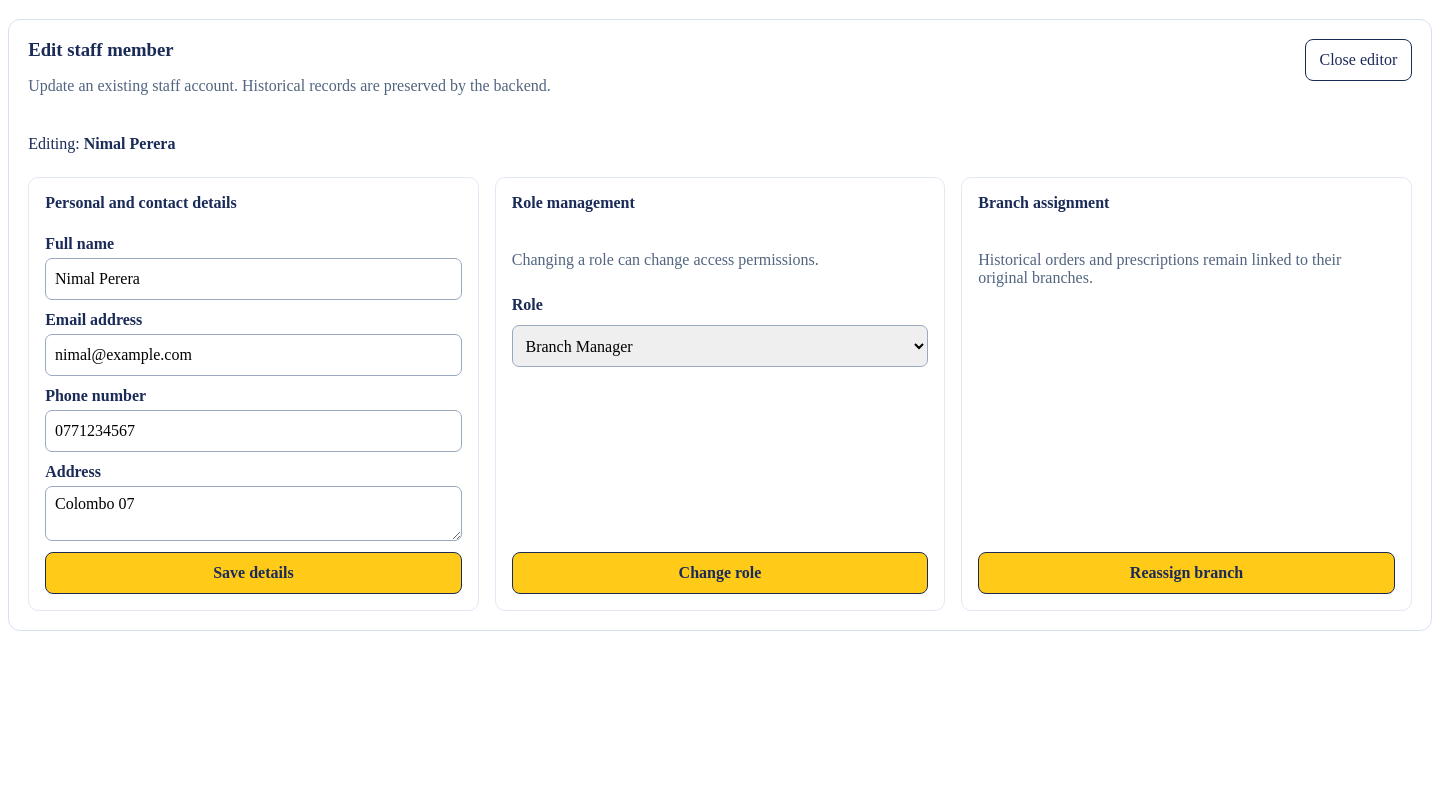
it: DDP-094 staff editing › does not submit unauthorized errors and does not show raw server messages
Expected: the field showing "Nimal Perera" is shown, [45,258,462,300]
Select "Optometrist" in the dropdown labelled "Role" at [720, 346], box [512,325,928,367]
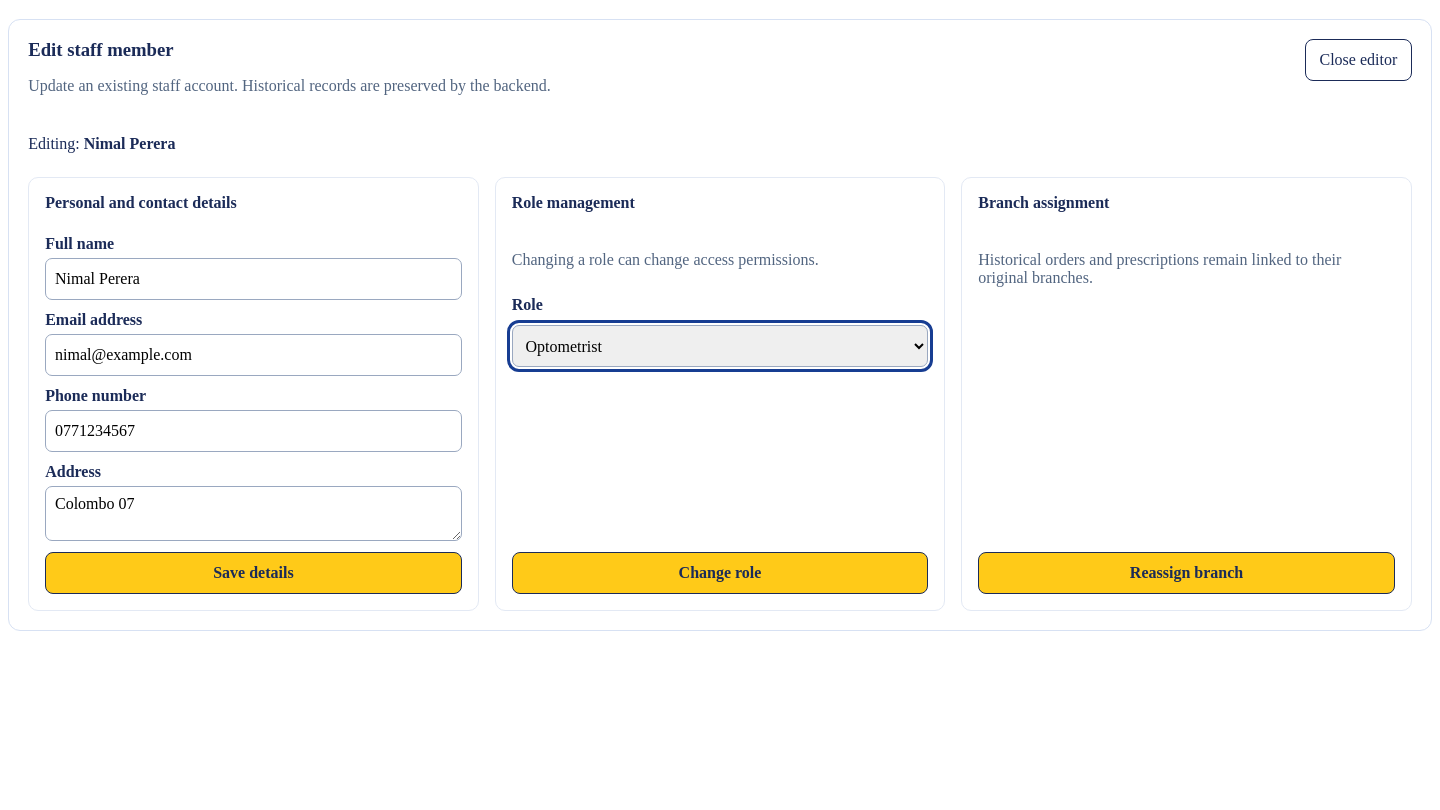
Click the button "Change role" at [720, 573], box [512,552,928,594]
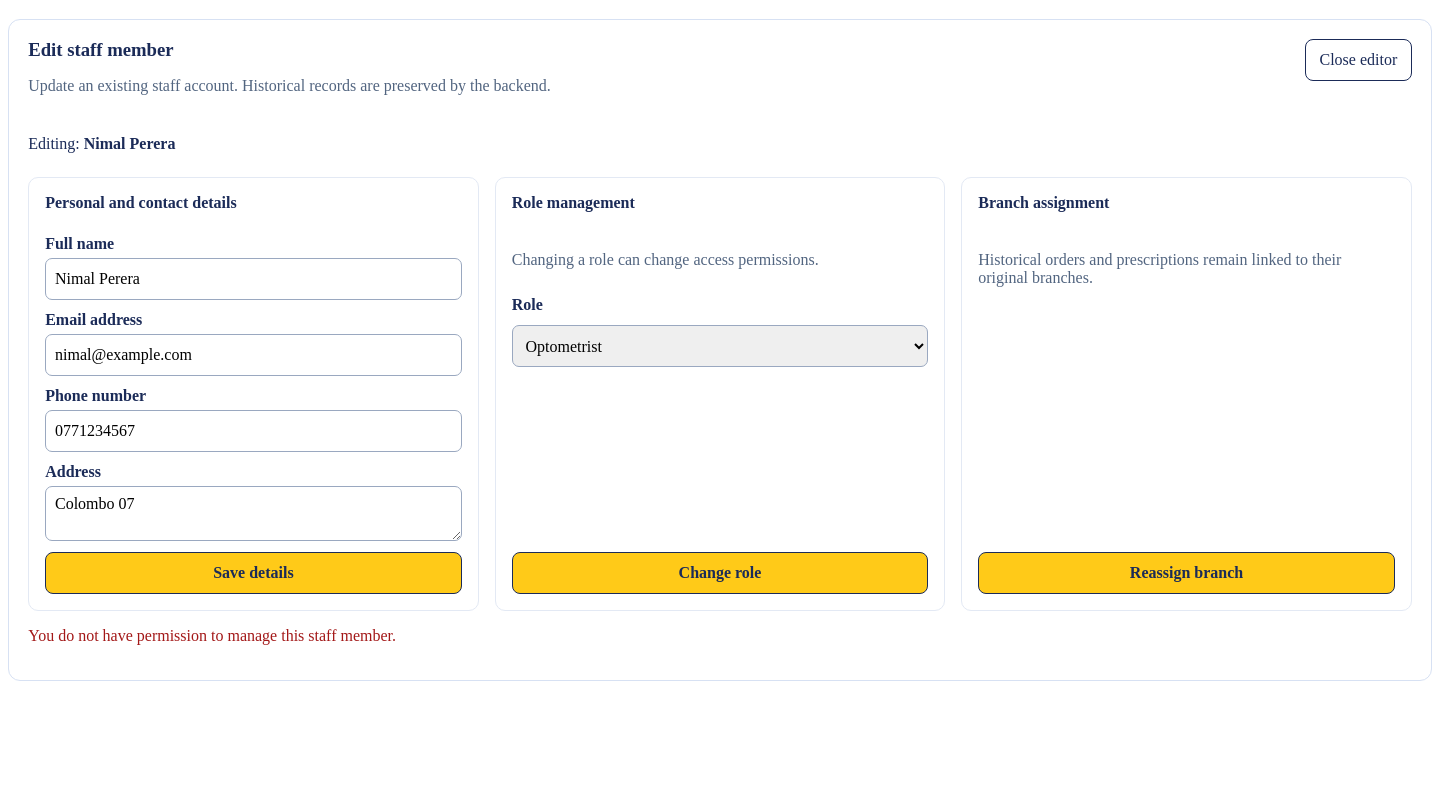
Expected: the text "You do not have permission to manage this staff member." is shown, [28,627,396,644]
